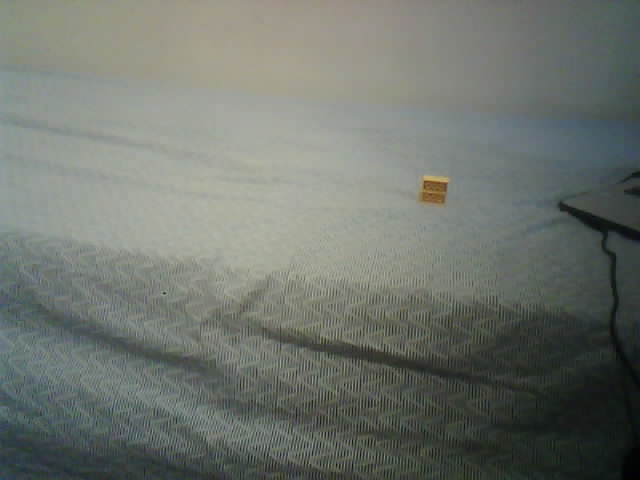lego: (418, 174, 449, 205)
